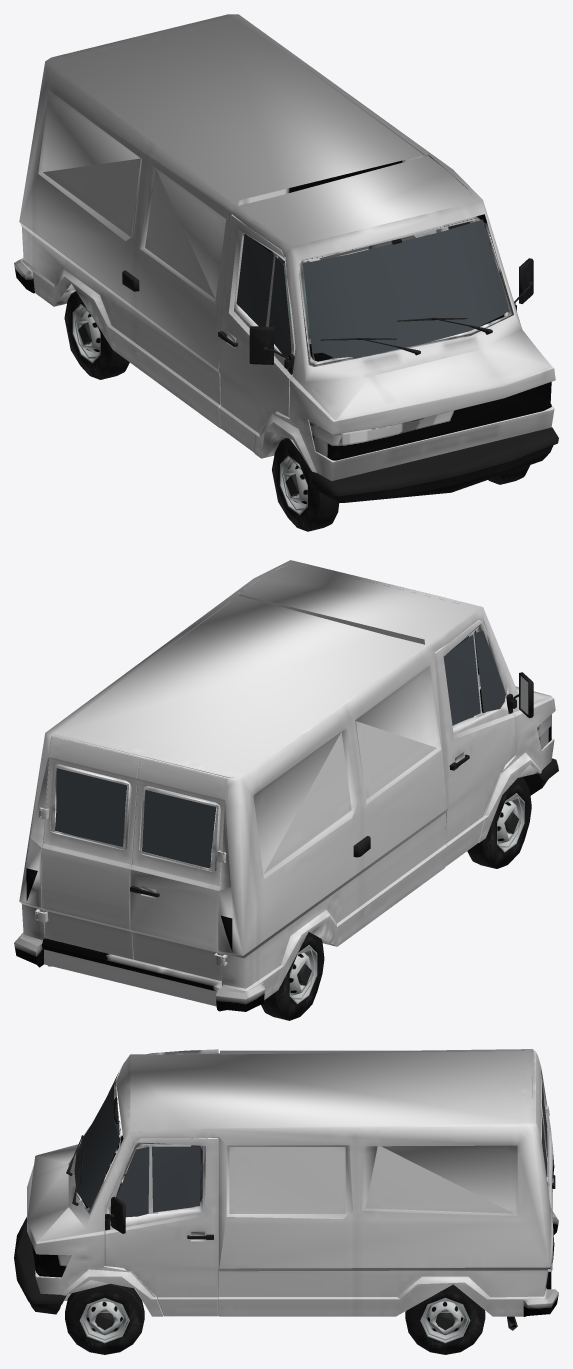
The model's file is delivery-mid.glb.
The picture shows the model from 3 angles, top to bottom: view 1: azimuth 30°, elevation 25°; view 2: azimuth 150°, elevation 25°; view 3: azimuth 270°, elevation 25°; orthographic projection. The views are drawn at different scales.
Visible parts, largest first — view 1: polySurface160_van_european_delivery_body_shd_0, glass_windshield_ply_van_european_delivery_glass_shd_0, polySurface149_van_european_delivery_body_shd_0, bumper_front_ply_van_european_delivery_trim_shd_0, door_glass_ply_van_european_delivery_glass_shd_0, wheelFR, wheelRR, mirror_ply_van_european_delivery_trim_shd_0; view 2: polySurface160_van_european_delivery_body_shd_0, polySurface22_van_european_delivery_body_shd_0, polySurface137_van_european_delivery_body_shd_0, polySurface149_van_european_delivery_body_shd_0, pCube81_van_european_delivery_glass_shd_0, pCube80_van_european_delivery_glass_shd_0, door_glass_ply_van_european_delivery_glass_shd_0, wheelFR, wheelRR, mirror_ply_van_european_delivery_trim_shd_0; view 3: polySurface160_van_european_delivery_body_shd_0, polySurface149_van_european_delivery_body_shd_0, door_glass_ply_van_european_delivery_glass_shd_0, wheelFL, wheelRL, glass_windshield_ply_van_european_delivery_glass_shd_0, bumper_front_ply_van_european_delivery_trim_shd_0, polySurface137_van_european_delivery_body_shd_0, mirror_ply_van_european_delivery_trim_shd_0, polySurface22_van_european_delivery_body_shd_0.
Boxes of the visible parts, x1=… form: polySurface160_van_european_delivery_body_shd_0: x1=14, y1=14, x2=555, y2=481; glass_windshield_ply_van_european_delivery_glass_shd_0: x1=302, y1=219, x2=509, y2=359; polySurface149_van_european_delivery_body_shd_0: x1=219, y1=214, x2=295, y2=452; bumper_front_ply_van_european_delivery_trim_shd_0: x1=312, y1=427, x2=558, y2=502; door_glass_ply_van_european_delivery_glass_shd_0: x1=236, y1=233, x2=291, y2=356; wheelFR: x1=272, y1=438, x2=339, y2=531; wheelRR: x1=64, y1=291, x2=129, y2=379; mirror_ply_van_european_delivery_trim_shd_0: x1=249, y1=326, x2=273, y2=364; polySurface160_van_european_delivery_body_shd_0: x1=14, y1=560, x2=555, y2=1011; polySurface22_van_european_delivery_body_shd_0: x1=41, y1=736, x2=139, y2=959; polySurface137_van_european_delivery_body_shd_0: x1=130, y1=757, x2=228, y2=981; polySurface149_van_european_delivery_body_shd_0: x1=434, y1=620, x2=515, y2=866; pCube81_van_european_delivery_glass_shd_0: x1=142, y1=790, x2=216, y2=868; pCube80_van_european_delivery_glass_shd_0: x1=55, y1=768, x2=127, y2=846; door_glass_ply_van_european_delivery_glass_shd_0: x1=443, y1=630, x2=505, y2=725; wheelFR: x1=467, y1=777, x2=531, y2=868; wheelRR: x1=261, y1=932, x2=324, y2=1020; mirror_ply_van_european_delivery_trim_shd_0: x1=519, y1=672, x2=533, y2=718; polySurface160_van_european_delivery_body_shd_0: x1=27, y1=1049, x2=558, y2=1316; polySurface149_van_european_delivery_body_shd_0: x1=104, y1=1138, x2=218, y2=1316; door_glass_ply_van_european_delivery_glass_shd_0: x1=116, y1=1146, x2=200, y2=1217; wheelFL: x1=65, y1=1283, x2=144, y2=1354; wheelRL: x1=405, y1=1284, x2=485, y2=1354; glass_windshield_ply_van_european_delivery_glass_shd_0: x1=74, y1=1072, x2=120, y2=1209; bumper_front_ply_van_european_delivery_trim_shd_0: x1=14, y1=1217, x2=66, y2=1314; polySurface137_van_european_delivery_body_shd_0: x1=536, y1=1053, x2=552, y2=1198; mirror_ply_van_european_delivery_trim_shd_0: x1=110, y1=1196, x2=125, y2=1233; polySurface22_van_european_delivery_body_shd_0: x1=536, y1=1088, x2=552, y2=1217.
Bounding box in the file's own units: 2.67 × 2.47 × 5.4.
Materials: 5 (4 with a texture image).
